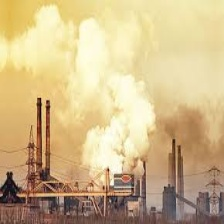smoke: (13, 5, 167, 174)
